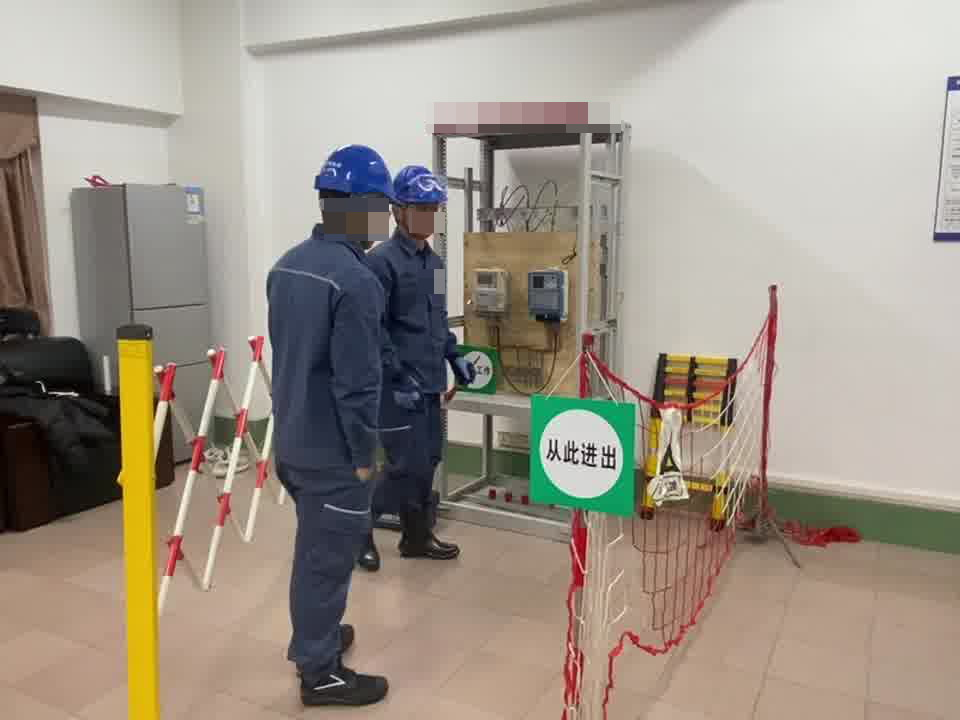downsuit: (272, 457, 369, 676), (377, 397, 445, 531)
glove: (397, 371, 426, 410), (448, 353, 478, 383)
halt: (312, 144, 392, 231), (392, 164, 449, 239)
inear: (353, 196, 380, 240)
intosign: (529, 393, 634, 510)
person: (258, 140, 400, 707), (363, 157, 471, 561)
shoe: (398, 510, 458, 557)
upsuit: (267, 228, 385, 472), (376, 237, 456, 396)
worksign: (459, 349, 497, 391)
